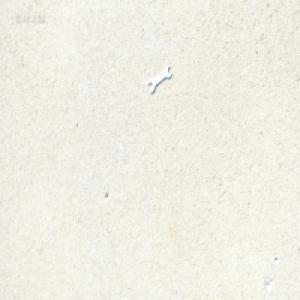Wrench: (148, 64, 171, 94)
